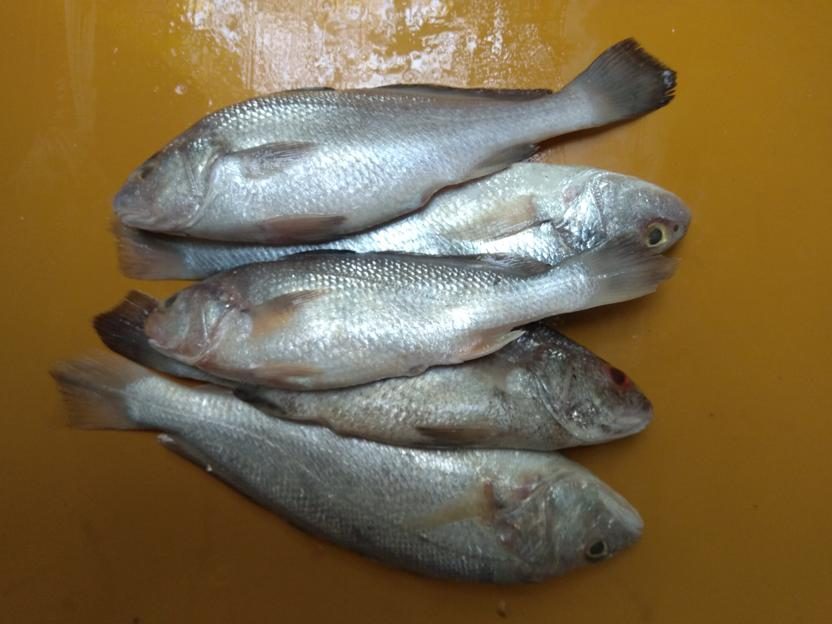Fish head: (512, 468, 644, 577), (113, 130, 232, 234), (538, 340, 654, 446), (563, 171, 691, 254), (143, 280, 249, 365)
Fish tail: (568, 37, 679, 125), (565, 229, 673, 313), (43, 353, 156, 430), (89, 288, 162, 371), (111, 223, 210, 281)
